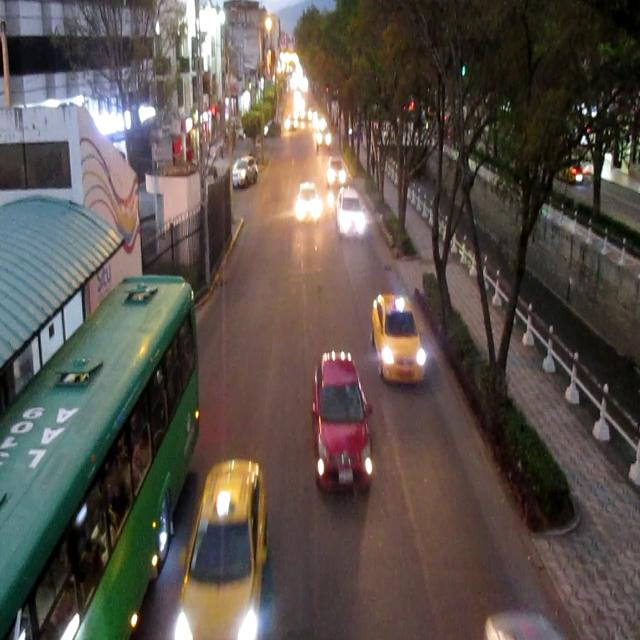BUS: (3, 278, 204, 638)
SUV: (234, 159, 258, 188)
